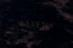eight: (17, 19, 21, 27)
four: (47, 20, 51, 28)
nine: (32, 19, 36, 28)
one: (42, 20, 46, 28)
seven: (22, 19, 26, 27), (27, 19, 31, 27), (37, 20, 41, 28)
